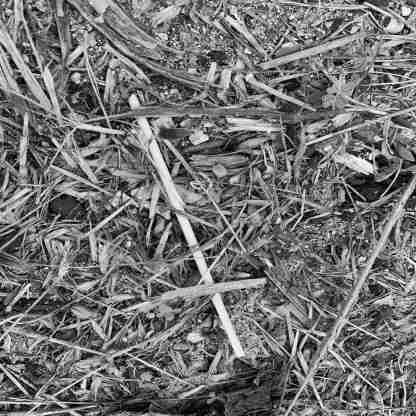plastic: (124, 92, 260, 362)
